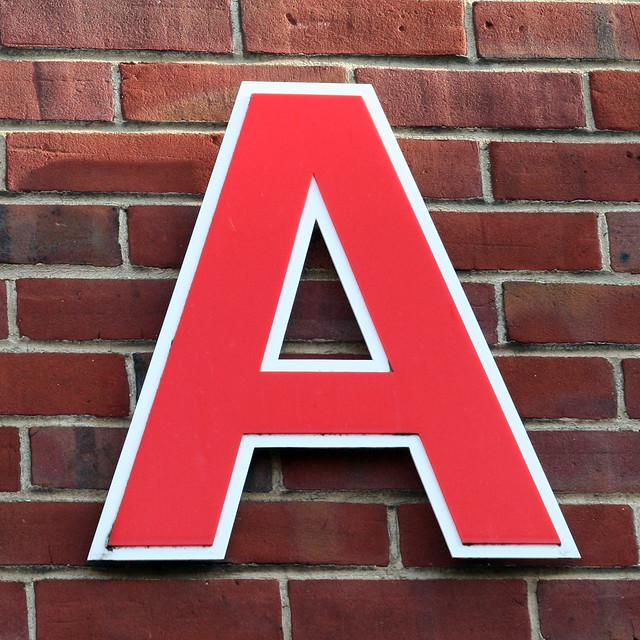A: (88, 80, 579, 564)
